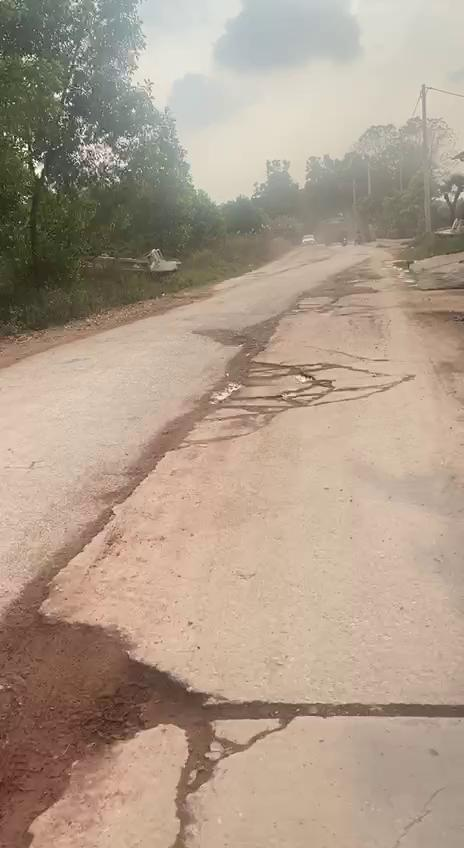pothole: (0, 594, 257, 848), (208, 357, 336, 418)
